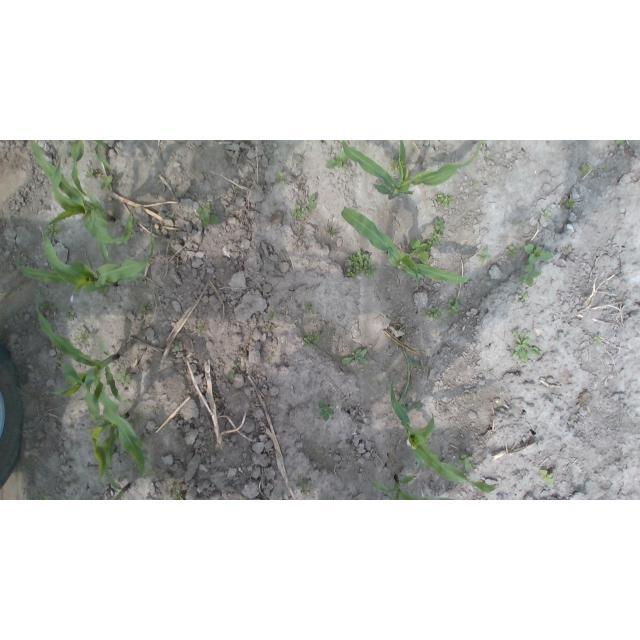Maize: (33, 293, 145, 475), (24, 140, 134, 260), (390, 381, 503, 493), (342, 205, 471, 283), (18, 225, 155, 293), (341, 140, 483, 198), (86, 368, 131, 481), (367, 472, 453, 500), (401, 347, 424, 398), (69, 140, 89, 196), (103, 468, 134, 500), (94, 140, 117, 170)
Weeds: (508, 329, 541, 362), (345, 250, 377, 276), (523, 245, 553, 264), (410, 237, 431, 263), (519, 264, 543, 286), (197, 203, 219, 226), (343, 348, 370, 366), (327, 151, 349, 170), (431, 222, 445, 244), (318, 402, 334, 421), (327, 216, 341, 237), (458, 455, 474, 473), (448, 297, 463, 314), (117, 368, 132, 385), (477, 246, 490, 264), (540, 470, 555, 485), (426, 307, 443, 320), (101, 175, 114, 191), (436, 193, 453, 205), (72, 332, 88, 344), (228, 362, 240, 377), (46, 226, 62, 237), (293, 206, 305, 219), (275, 171, 285, 186), (390, 157, 400, 172), (541, 208, 551, 223), (579, 163, 590, 176), (296, 478, 311, 487), (310, 193, 317, 211), (519, 292, 529, 304), (87, 169, 99, 179), (506, 245, 516, 256), (563, 199, 574, 209), (304, 336, 316, 344), (613, 140, 625, 146), (174, 492, 182, 500), (300, 489, 310, 495), (512, 219, 522, 225), (174, 342, 181, 350), (593, 336, 601, 343), (269, 311, 275, 320), (67, 313, 73, 322), (200, 323, 207, 330), (42, 301, 49, 308), (270, 157, 277, 164), (267, 324, 274, 331), (139, 305, 145, 312), (266, 356, 272, 363), (307, 305, 313, 311), (139, 438, 145, 444), (295, 260, 302, 265), (604, 164, 608, 168)
